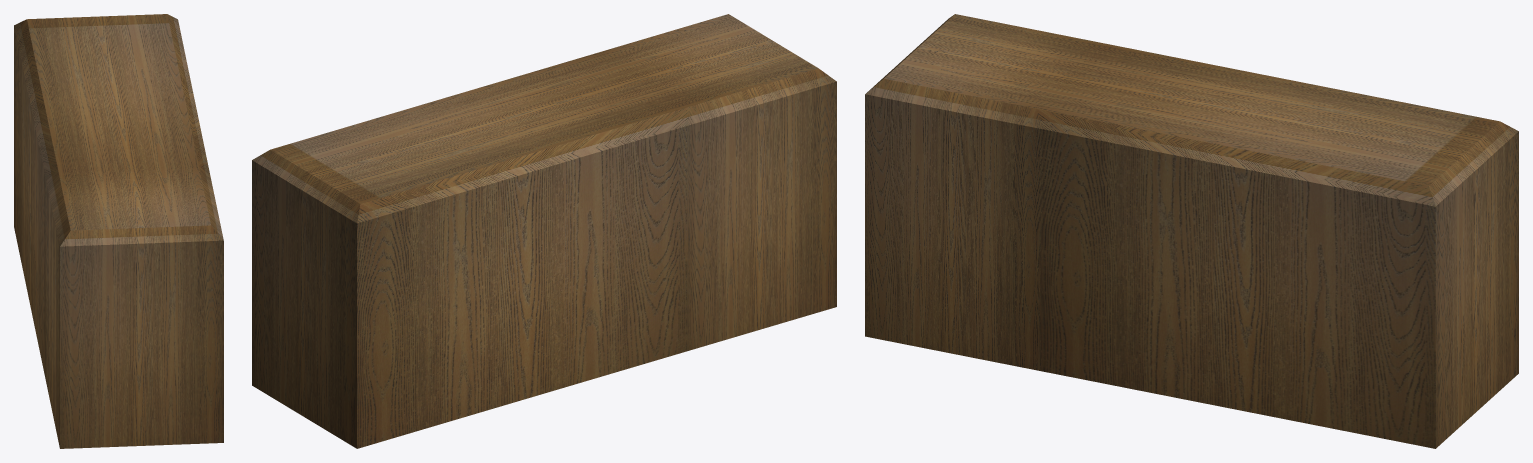
Rendered from Obstacle_033.obj.
3 views of the same model, side by side, from view 1: azimuth 30°, elevation 25°; view 2: azimuth 150°, elevation 25°; view 3: azimuth 270°, elevation 25° (orthographic). The views are drawn at different scales.
Parts seen in each view (by area): view 1: Box100; view 2: Box100; view 3: Box100.
Part boxes in pixels (x1=…): Box100: x1=14, y1=14, x2=223, y2=448; Box100: x1=252, y1=14, x2=836, y2=448; Box100: x1=865, y1=14, x2=1518, y2=448.
Size of the model in its own units: 62.21 by 39.37 by 91.48.
